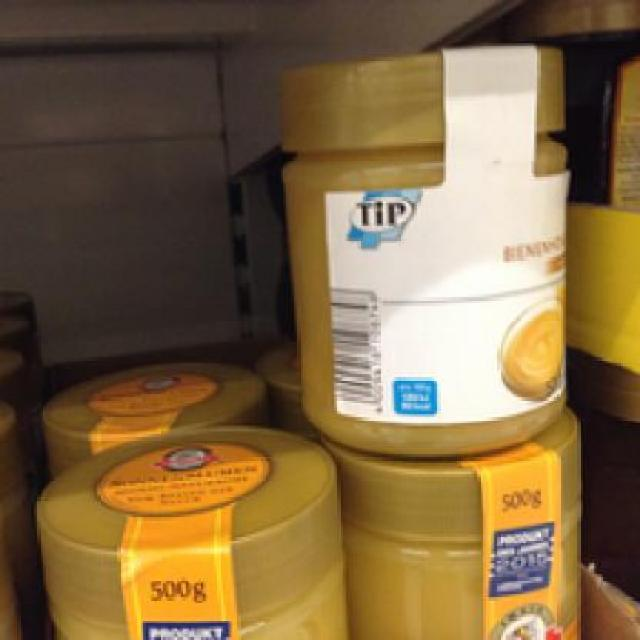Honey: (268, 40, 578, 446), (26, 425, 337, 638), (323, 428, 583, 638)
